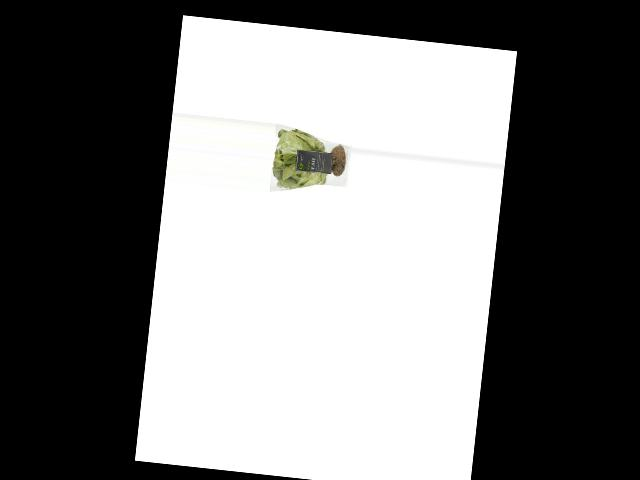lettuce: (269, 124, 353, 198)
